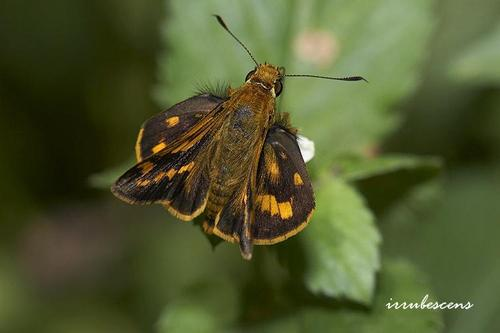Hesperiidae: (110, 13, 367, 262)
